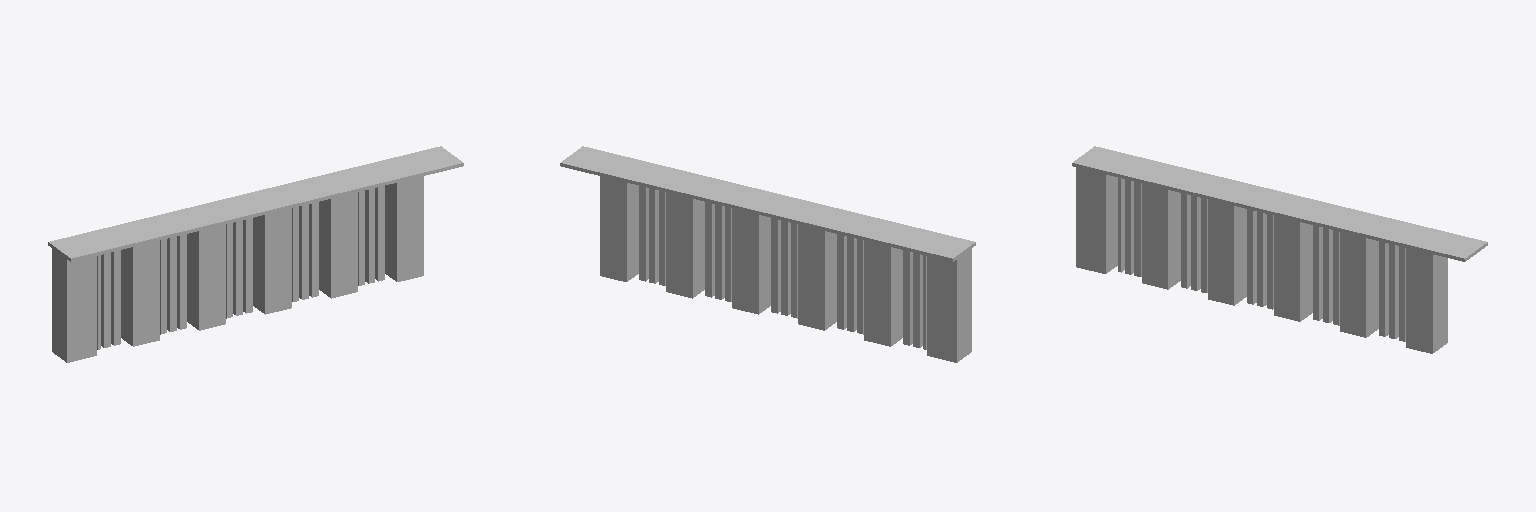
File: rails obj.obj
3 renders of one model, left to right at view 1: azimuth 30°, elevation 25°; view 2: azimuth 150°, elevation 25°; view 3: azimuth 330°, elevation 25°, orthographic.
Parts seen in each view (by area): view 1: object 1; view 2: object 1; view 3: object 1.
Part boxes in pixels (x1,y1,x2,y2): object 1: (48, 146, 463, 362); object 1: (560, 146, 975, 362); object 1: (1072, 146, 1487, 353).
Bounding box in the file's own units: 11.9 × 3.1 × 1.2.